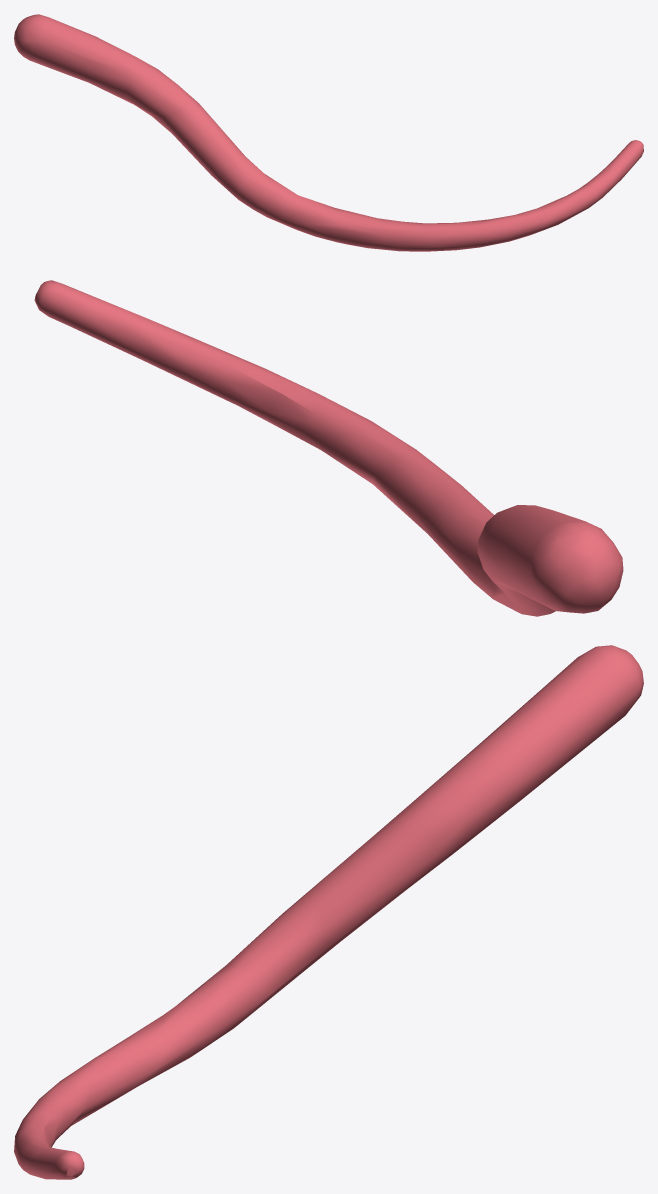
File: fma15803_fj3098.glb
3 renders of one model, top to bottom at view 1: azimuth 30°, elevation 25°; view 2: azimuth 150°, elevation 25°; view 3: azimuth 270°, elevation 25°, orthographic. The views are drawn at different scales.
Visible parts, largest first — view 1: FMA15803_FJ3098; view 2: FMA15803_FJ3098; view 3: FMA15803_FJ3098.
Boxes of the visible parts, x1,y1,x2,y2 form: FMA15803_FJ3098: (14, 14, 643, 251); FMA15803_FJ3098: (34, 280, 623, 616); FMA15803_FJ3098: (14, 645, 643, 1179).
Bounding box in the file's own units: 0.0284 × 0.0103 × 0.0212.
